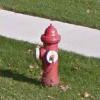Hydrant: (26, 15, 66, 95)
